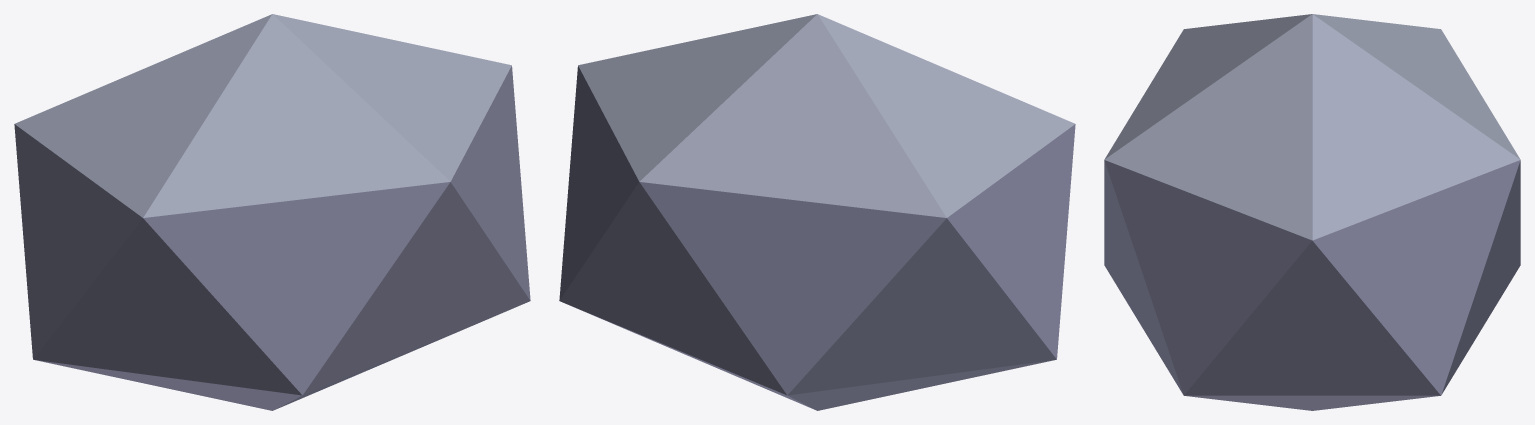
The model's file is small_rock_01.glb.
3 renders of one model, left to right at view 1: azimuth 30°, elevation 25°; view 2: azimuth 150°, elevation 25°; view 3: azimuth 270°, elevation 25°, orthographic.
Parts seen in each view (by area): view 1: small_rock_01; view 2: small_rock_01; view 3: small_rock_01.
Boxes of the visible parts, <box> form: small_rock_01: <box>14,14,530,410</box>; small_rock_01: <box>559,14,1075,410</box>; small_rock_01: <box>1104,14,1520,410</box>.
Bounding box in the file's own units: 0.2147 × 0.17 × 0.1616.
